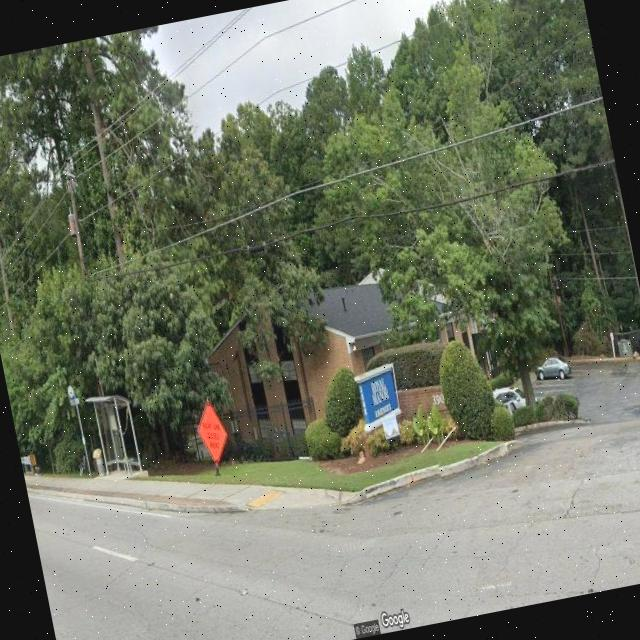seating: (120, 456, 138, 476)
shelter: (82, 392, 145, 484)
trash_can: (92, 450, 106, 480)
